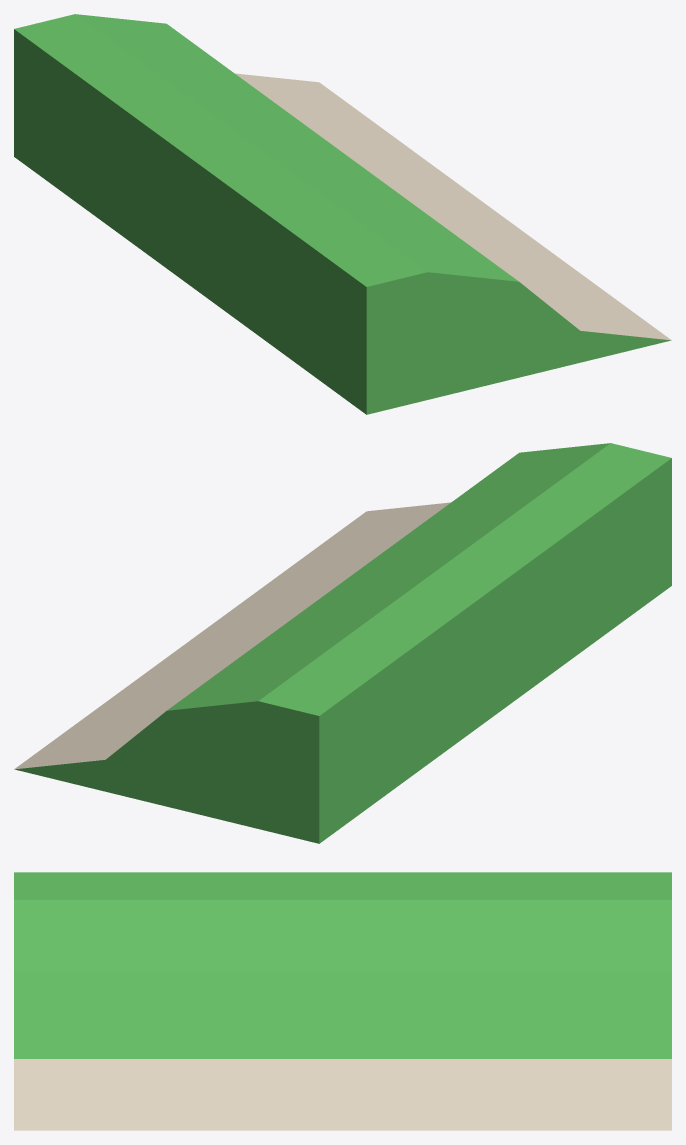
Rendered from Path_Side.glb.
The picture shows the model from 3 angles, top to bottom: view 1: azimuth 30°, elevation 25°; view 2: azimuth 150°, elevation 25°; view 3: azimuth 270°, elevation 25°; orthographic projection. The views are drawn at different scales.
Visible parts, largest first — view 1: object1; view 2: object1; view 3: object1.
Boxes of the visible parts, box(x1,y1,x2,y2) form: object1: box(14, 14, 671, 414); object1: box(14, 443, 671, 843); object1: box(14, 872, 671, 1130).
Bounding box in the file's own units: 0.5 × 0.2 × 1.
